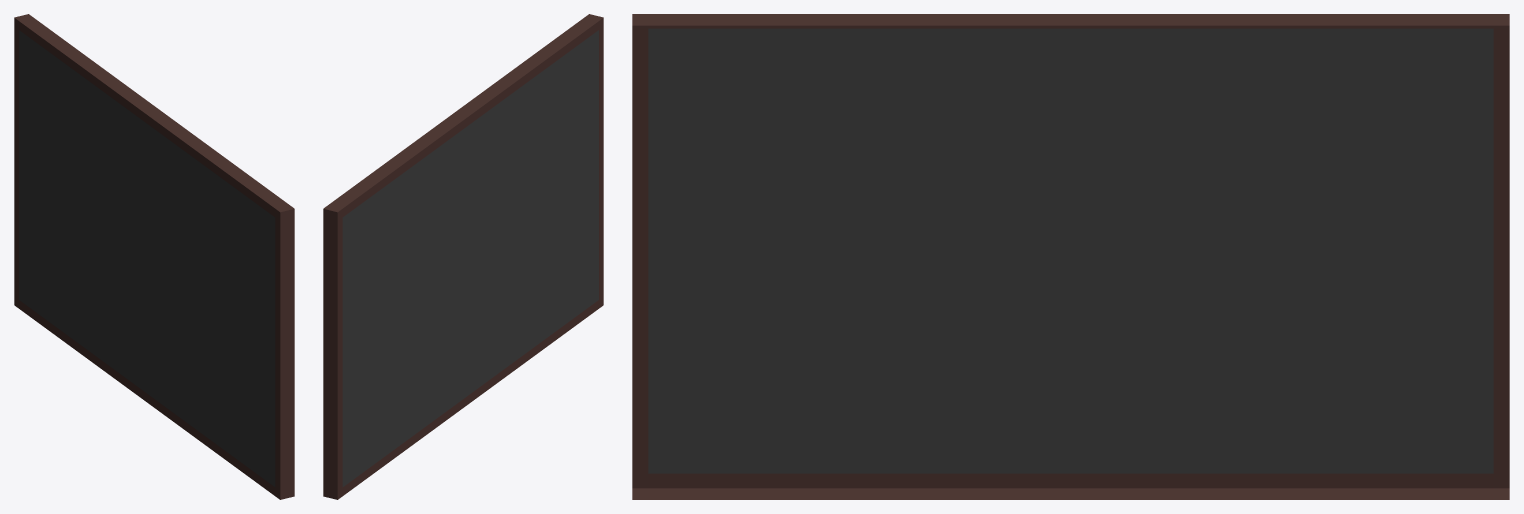
The model's file is Photoframe.fbx.
3 views of the same model, side by side, from view 1: azimuth 30°, elevation 25°; view 2: azimuth 150°, elevation 25°; view 3: azimuth 270°, elevation 25° (orthographic). The views are drawn at different scales.
Visible parts, largest first — view 1: Photoframe; view 2: Photoframe; view 3: Photoframe.
Boxes of the visible parts, box(x1,y1,x2,y2) form: Photoframe: box(14, 14, 294, 499); Photoframe: box(323, 14, 603, 499); Photoframe: box(632, 14, 1509, 499).
Size of the model in its own units: 5.64 by 107 by 179.
